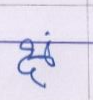anusvara: (46, 32, 49, 35)
